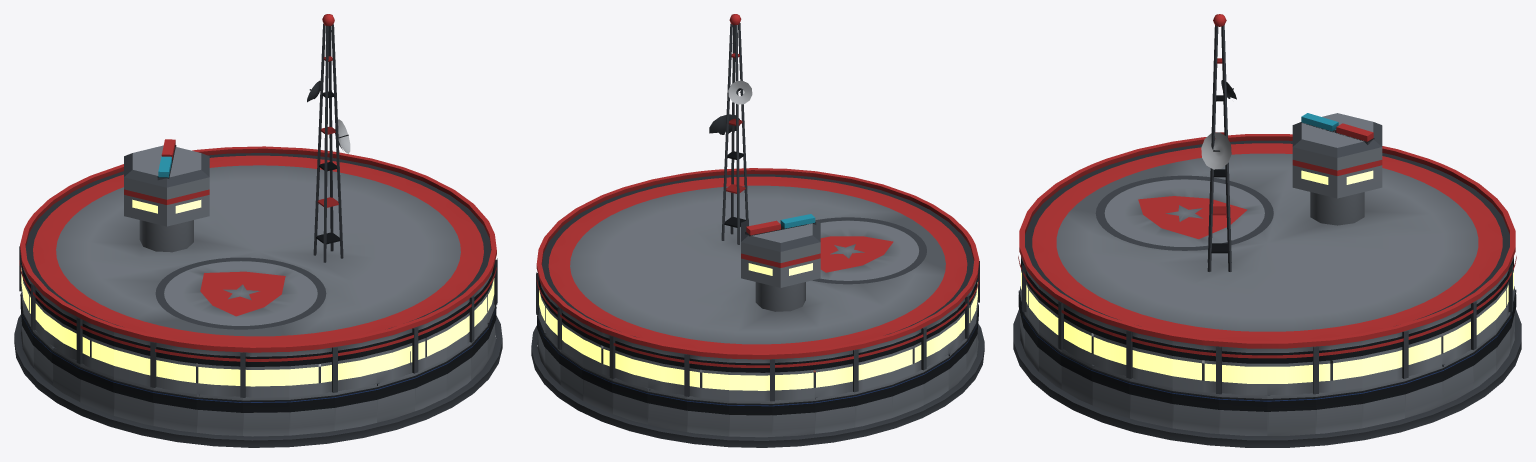
The model's file is security_office_m_far.glb.
3 views of the same model, side by side, from view 1: azimuth 30°, elevation 25°; view 2: azimuth 150°, elevation 25°; view 3: azimuth 270°, elevation 25° (orthographic). The views are drawn at different scales.
Parts seen in each view (by area): view 1: Roof, Base; view 2: Roof, Base; view 3: Roof, Base.
Boxes of the visible parts, x1=… form: Roof: x1=19, y1=14, x2=497, y2=397; Base: x1=14, y1=292, x2=502, y2=447; Roof: x1=536, y1=14, x2=979, y2=401; Base: x1=531, y1=304, x2=984, y2=447; Roof: x1=1018, y1=14, x2=1516, y2=395; Base: x1=1013, y1=286, x2=1521, y2=447.
Size of the model in its own units: 14.75 by 11.22 by 14.75.
